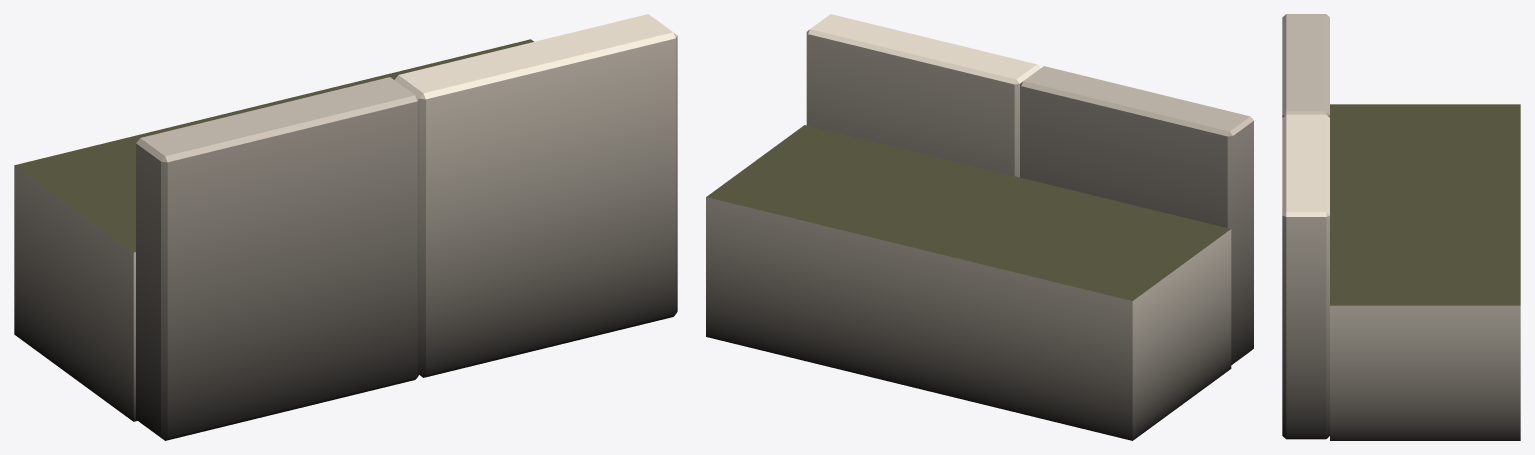
The model's file is SM_VKI_Ground_Sewer_OOXX.fbx.
The picture shows the model from 3 angles, left to right: view 1: azimuth 30°, elevation 25°; view 2: azimuth 150°, elevation 25°; view 3: azimuth 270°, elevation 25°; orthographic projection. The views are drawn at different scales.
Parts seen in each view (by area): view 1: SM_VKI_Ground_Sewer_OOXX.001; view 2: SM_VKI_Ground_Sewer_OOXX.001; view 3: SM_VKI_Ground_Sewer_OOXX.001.
Boxes of the visible parts, x1=… form: SM_VKI_Ground_Sewer_OOXX.001: x1=14, y1=14, x2=677, y2=440; SM_VKI_Ground_Sewer_OOXX.001: x1=706, y1=14, x2=1253, y2=440; SM_VKI_Ground_Sewer_OOXX.001: x1=1282, y1=14, x2=1520, y2=440.
Bounding box in the file's own units: 1.5 × 0.79 × 0.75.
